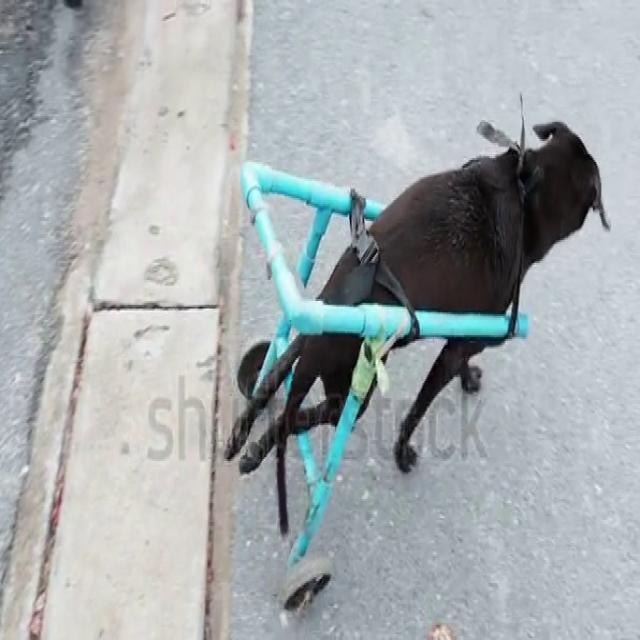injured-animals: (221, 88, 612, 617)
